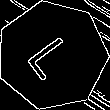L_NE: (22, 28, 83, 83)
